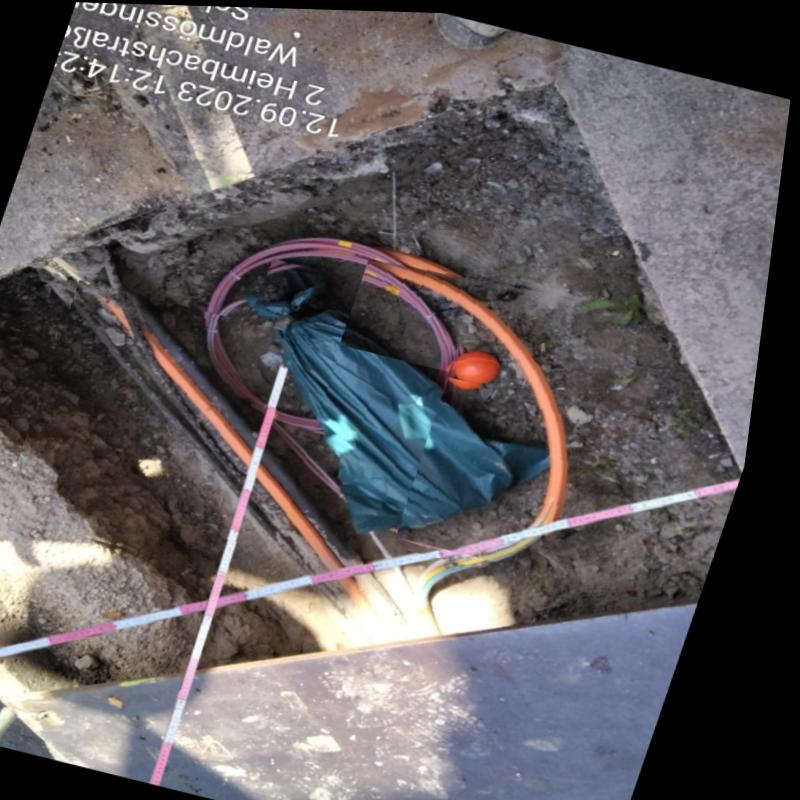Kugelmarker: (460, 347, 509, 381)
NT-Muffen: (258, 265, 568, 536)
Orang-Speednetrohrchen: (86, 280, 388, 610), (374, 254, 583, 558)
